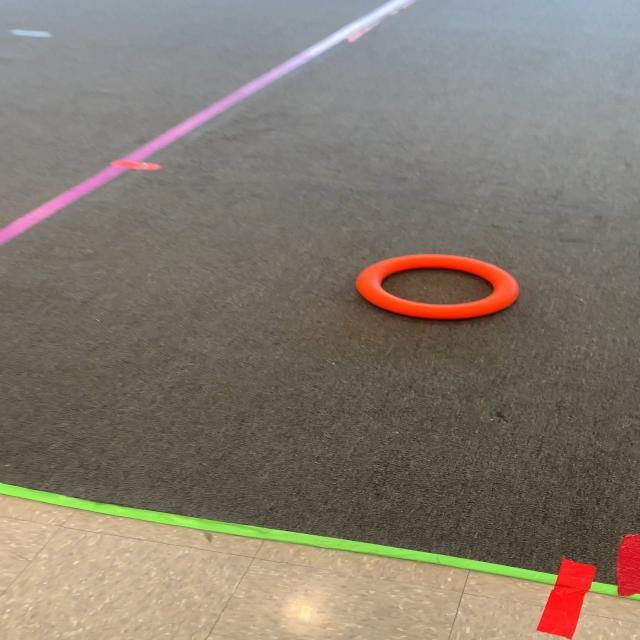notes: (356, 253, 524, 321)
